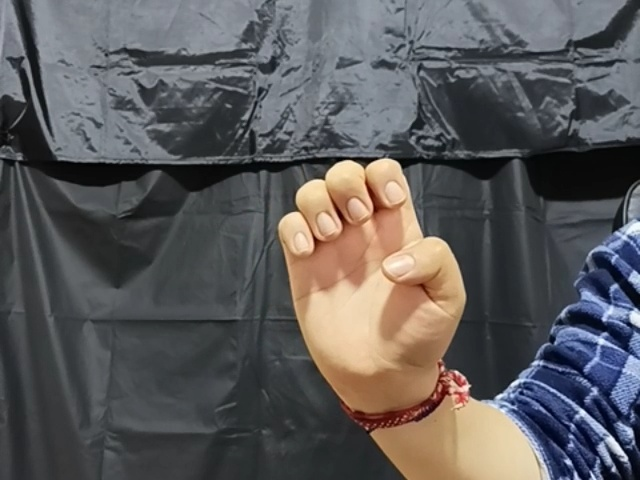E: (272, 153, 469, 385)
